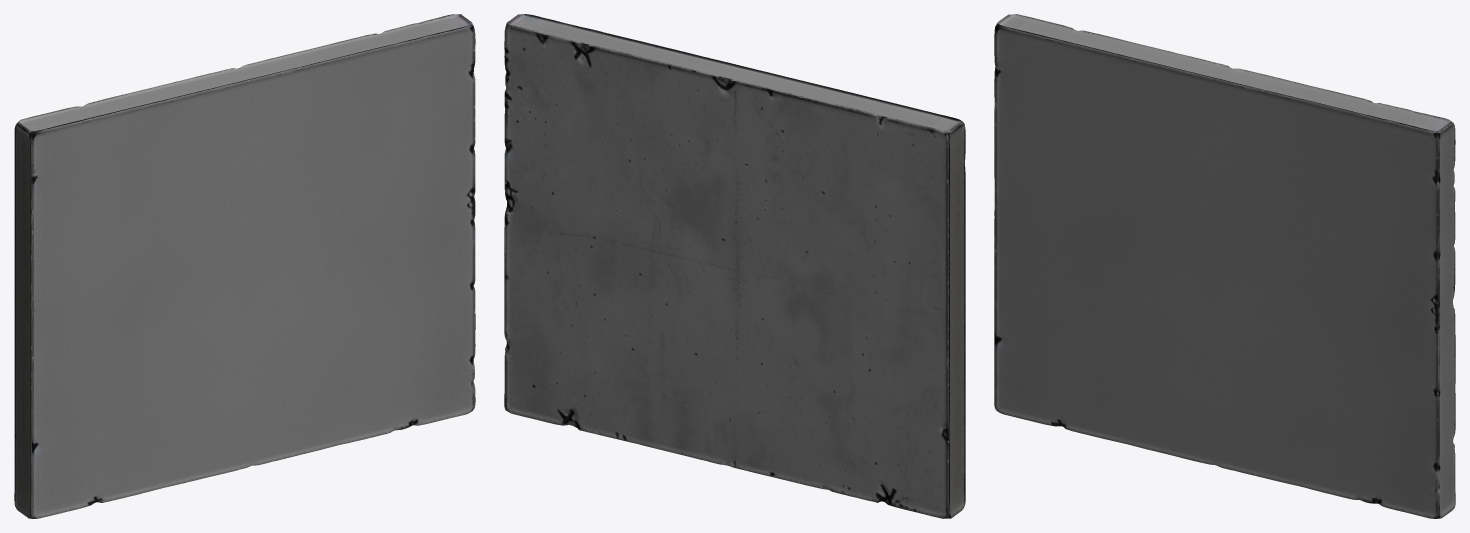
File: Wall-Concrete-1.glb
3 views of the same model, side by side, from view 1: azimuth 30°, elevation 25°; view 2: azimuth 150°, elevation 25°; view 3: azimuth 330°, elevation 25° (orthographic).
Parts seen in each view (by area): view 1: tmpea1tq2b1.ply; view 2: tmpea1tq2b1.ply; view 3: tmpea1tq2b1.ply.
Part boxes in pixels (left/top/right/bottom): tmpea1tq2b1.ply: left=14, top=14, right=475, bottom=518; tmpea1tq2b1.ply: left=504, top=14, right=965, bottom=518; tmpea1tq2b1.ply: left=994, top=14, right=1455, bottom=518.
Size of the model in its own units: 3 by 2.5 by 0.2.
Materials: 1 (1 with a texture image).
